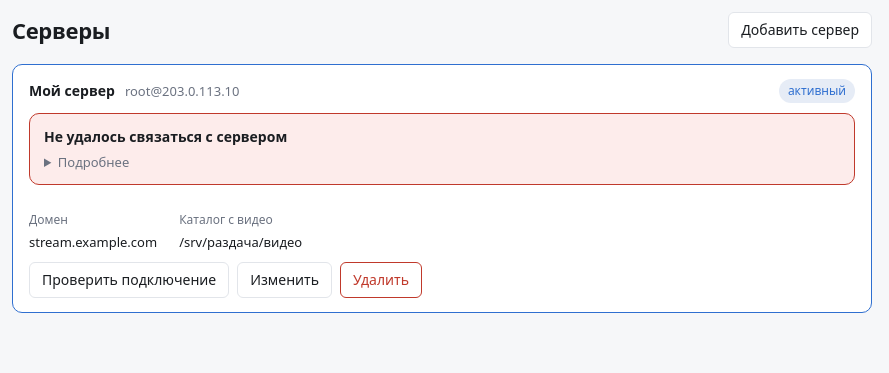
Test: the list of servers › asks nothing more when «Cancel» is pressed at the question (T683)
Click the button "Удалить": [381, 280] box [340,262,422,298]
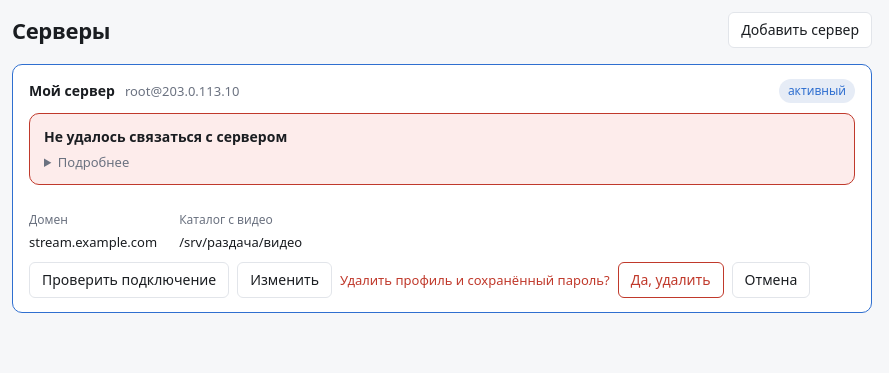
Click the button "Да, удалить": [671, 280] box [618,262,724,298]
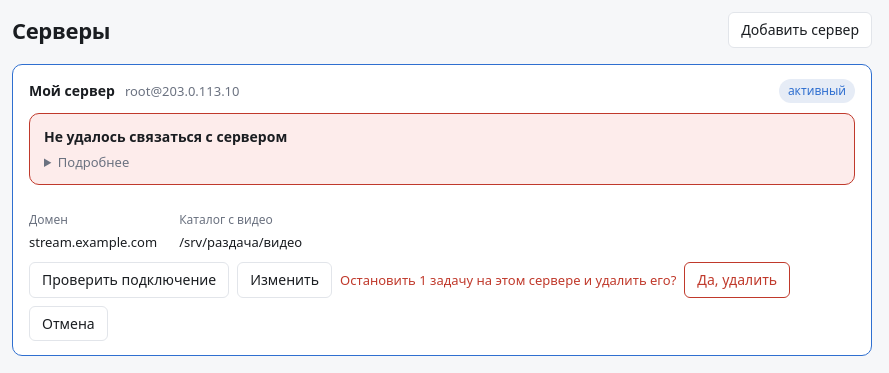
Check: the text "Остановить 1 задачу на этом сервере и удалить его?" is shown, box [340,270,676,290]
Click the button "Отмена": [68, 323] box [29,306,108,341]
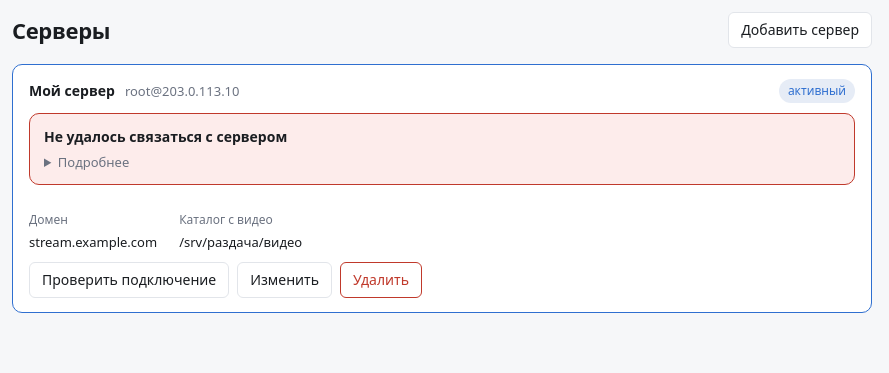
Check: the text "Остановить 1 задачу" is gone
